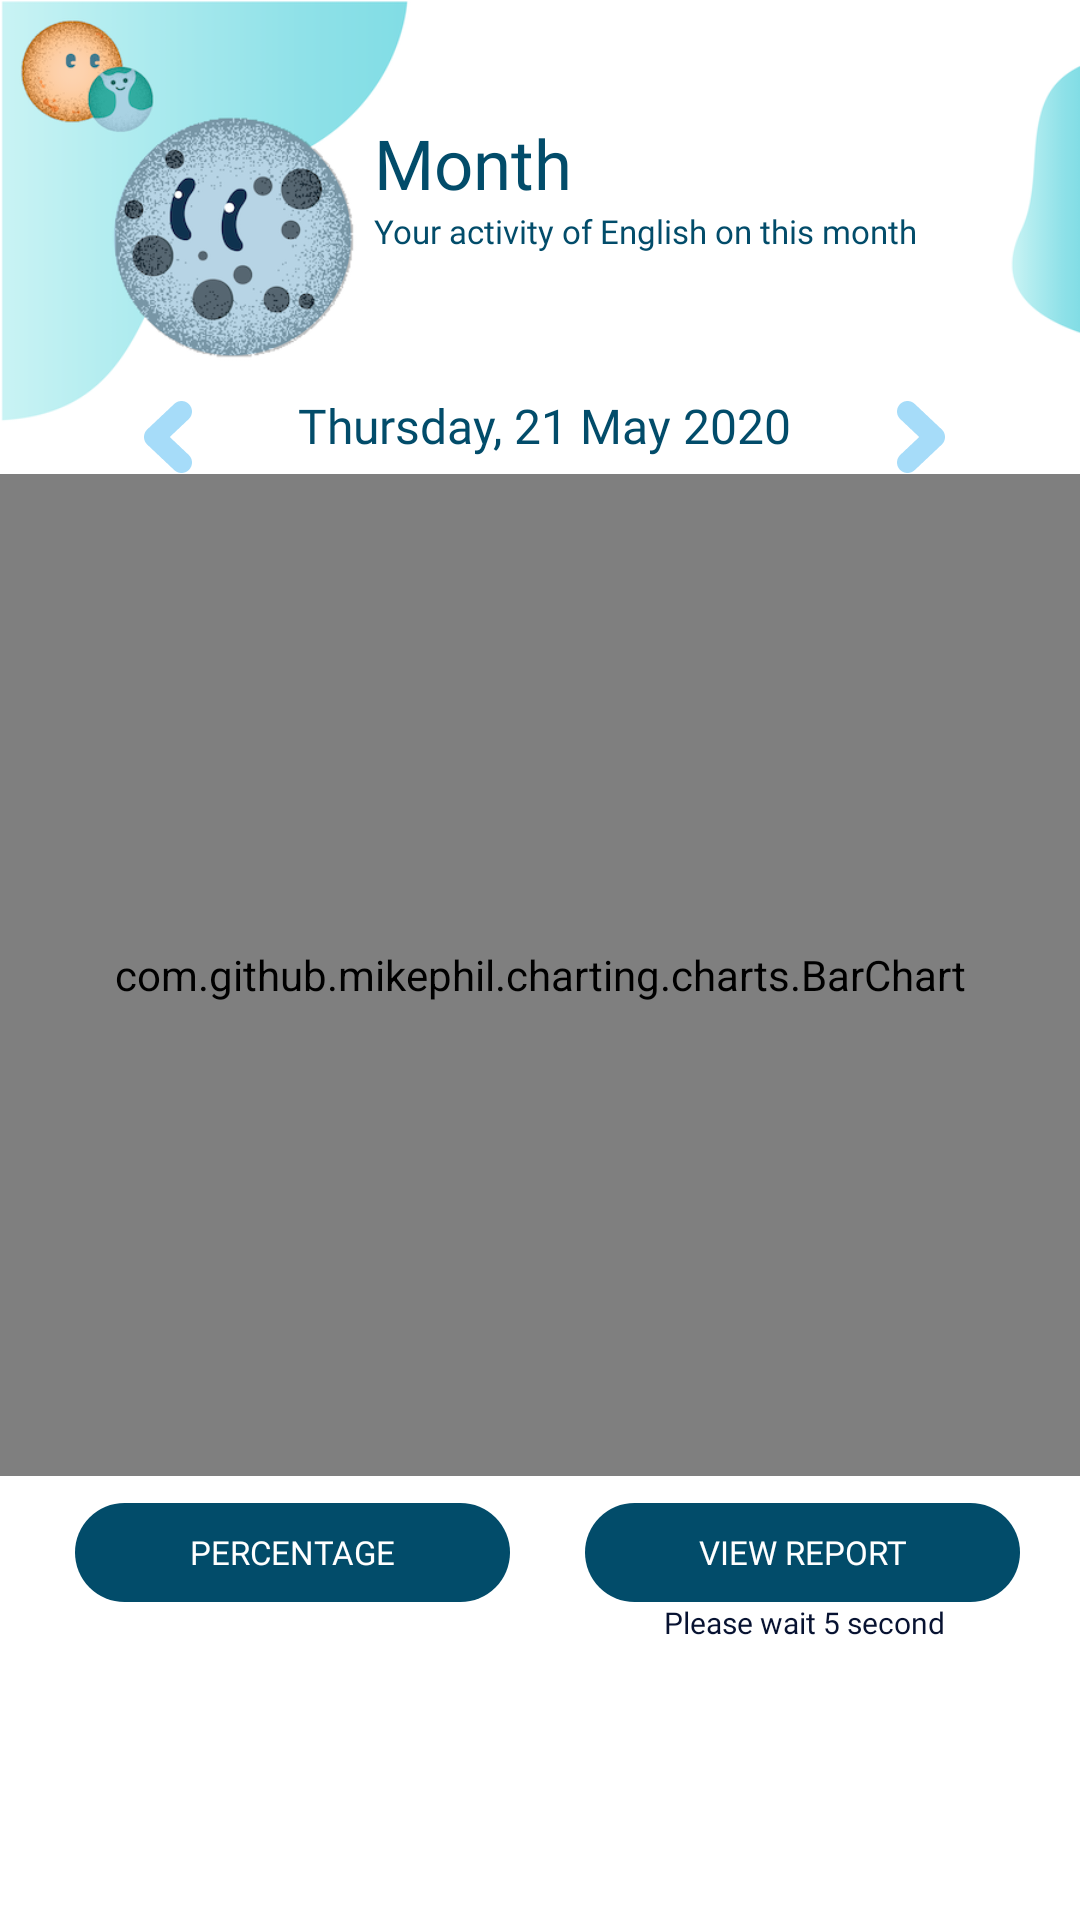

Icons on this 1080w x 1920h Android screen, each with its box as (x1, y1, x2, y2):
left: (144, 401, 192, 473)
right: (897, 401, 945, 473)
